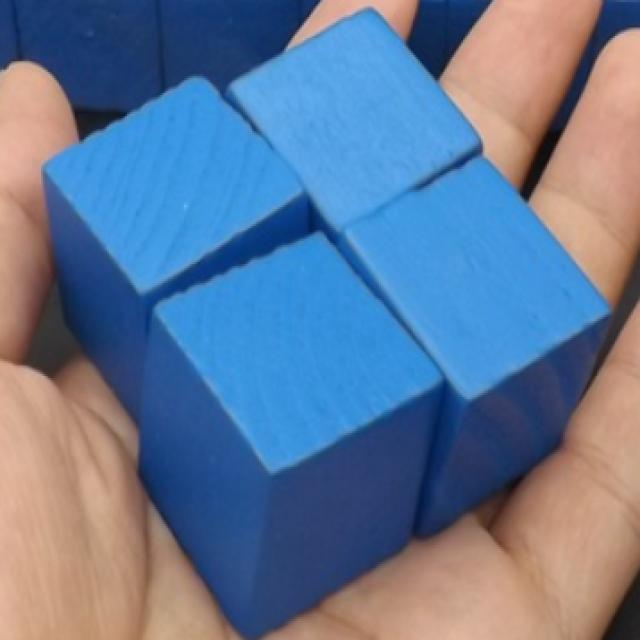bluecube: (136, 234, 447, 640), (336, 154, 617, 542), (40, 72, 313, 431), (221, 7, 482, 246)
